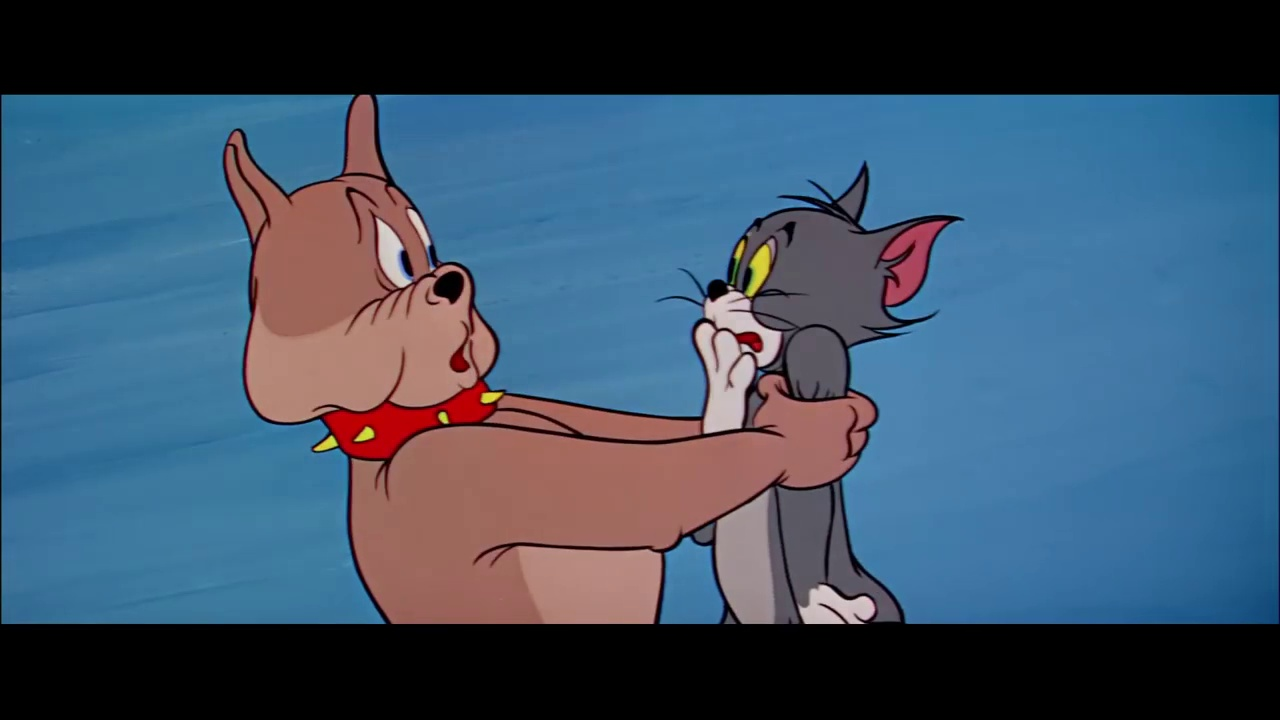spike: (219, 91, 514, 465)
tom: (654, 154, 968, 378)
